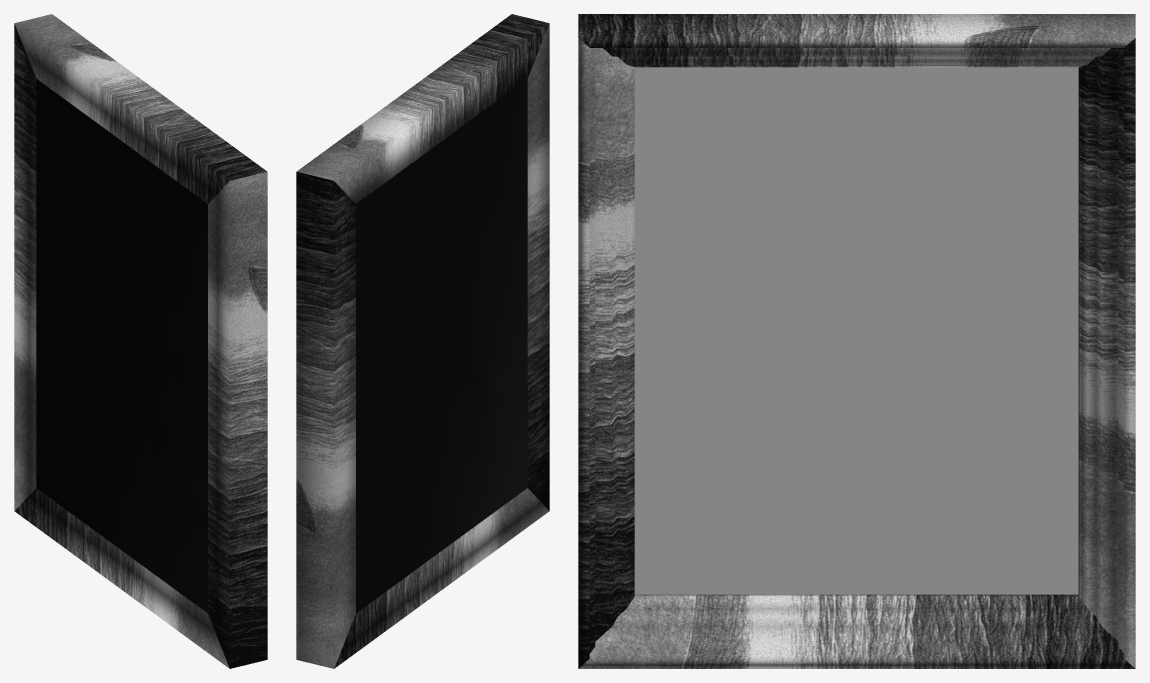
File: Beks.fbx
3 renders of one model, left to right at view 1: azimuth 30°, elevation 25°; view 2: azimuth 150°, elevation 25°; view 3: azimuth 270°, elevation 25°, orthographic. The views are drawn at different scales.
Visible parts, largest first — view 1: Ramy02; view 2: Ramy02; view 3: Ramy02.
Part boxes in pixels (<box>): Ramy02: <box>14,14,267,668</box>; Ramy02: <box>296,14,549,668</box>; Ramy02: <box>578,14,1135,668</box>.
Bounding box in the file's own units: 0.1329 × 1.65 × 1.32.
